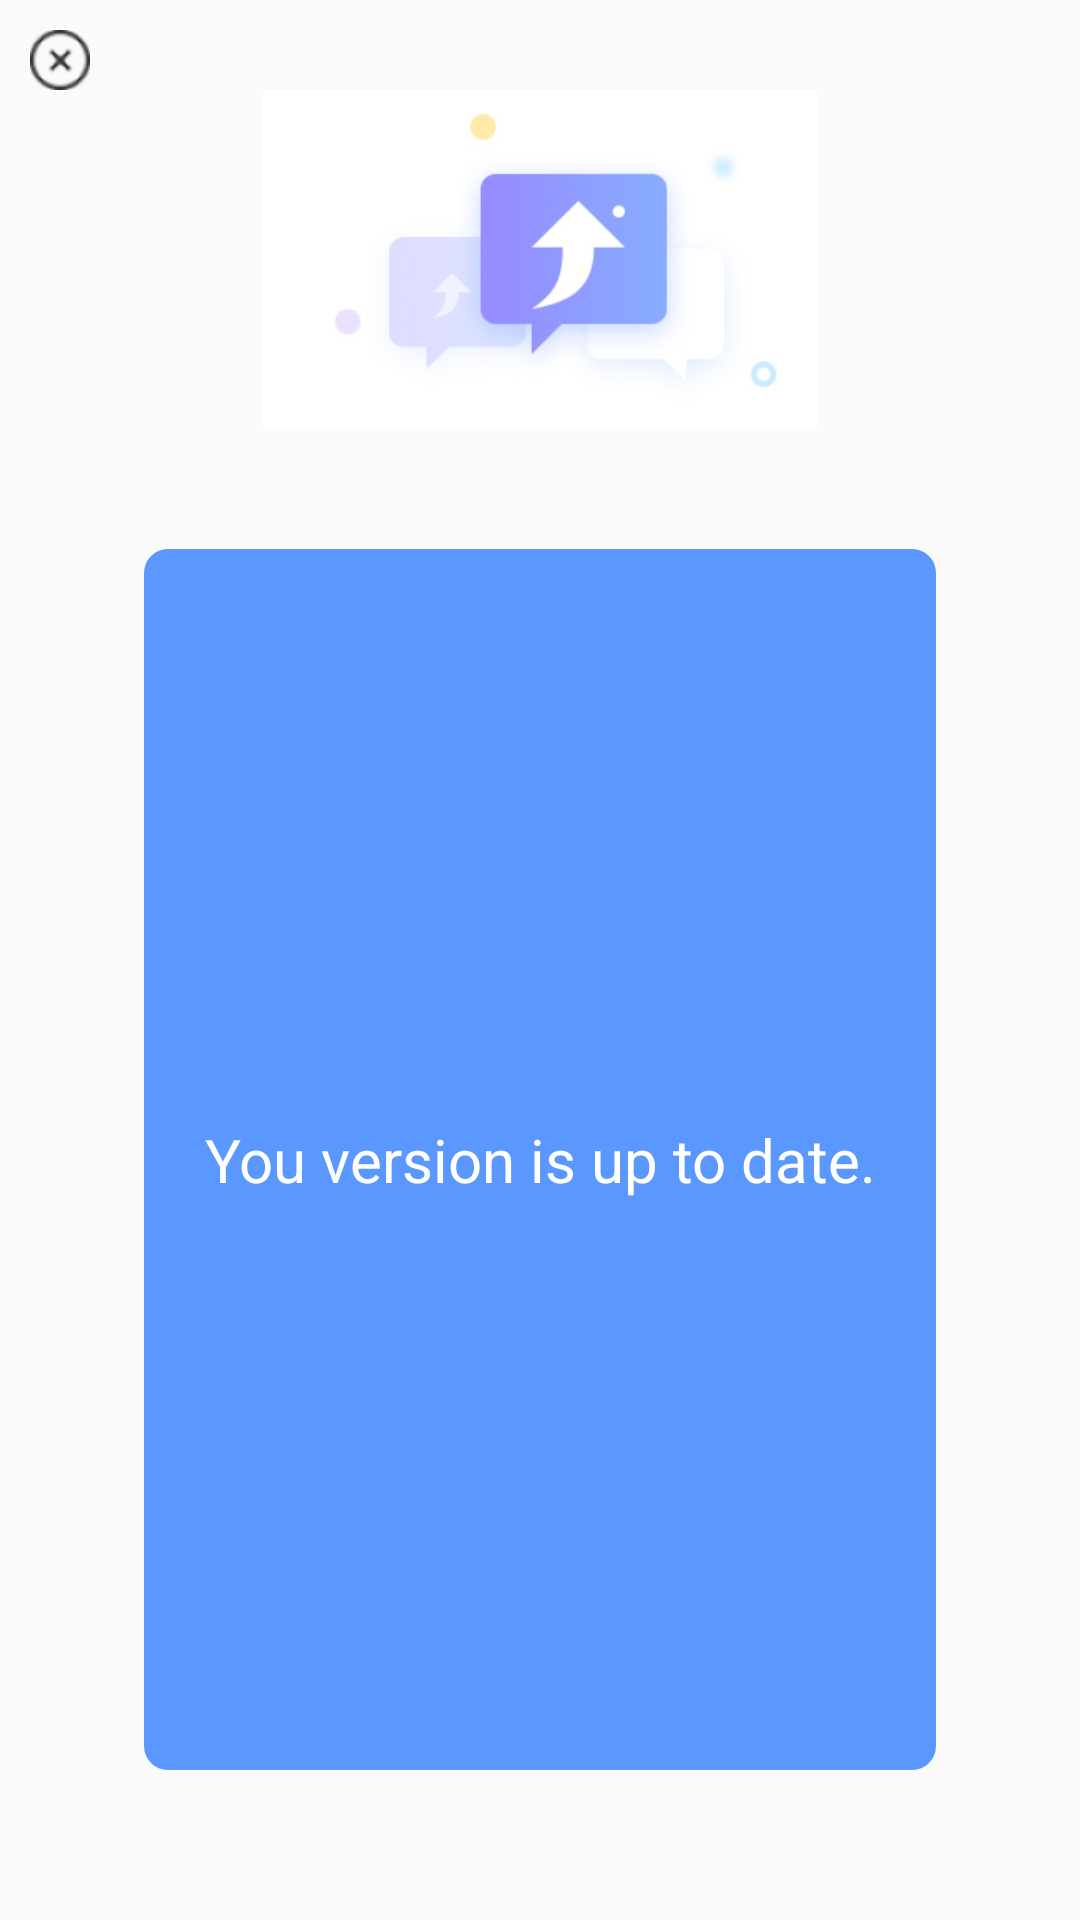

Named icons in this screenshot (1080x1920) and their centers, (x=x, y=y):
close: (x=60, y=60)
